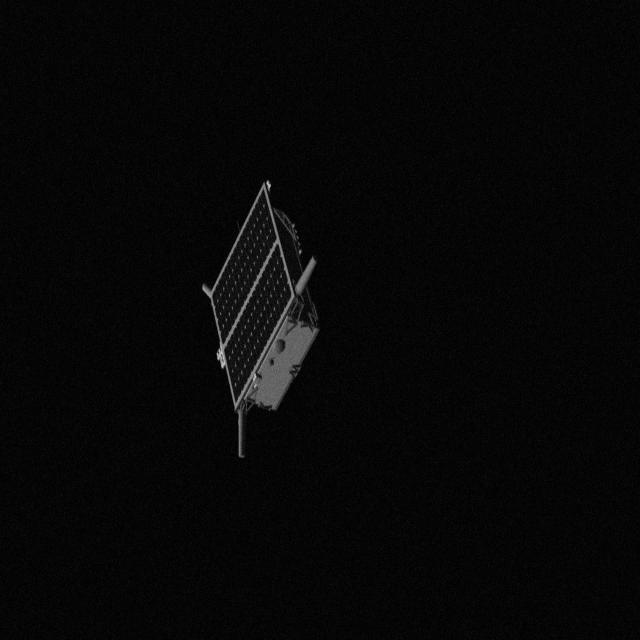satellite: (202, 172, 326, 462)
